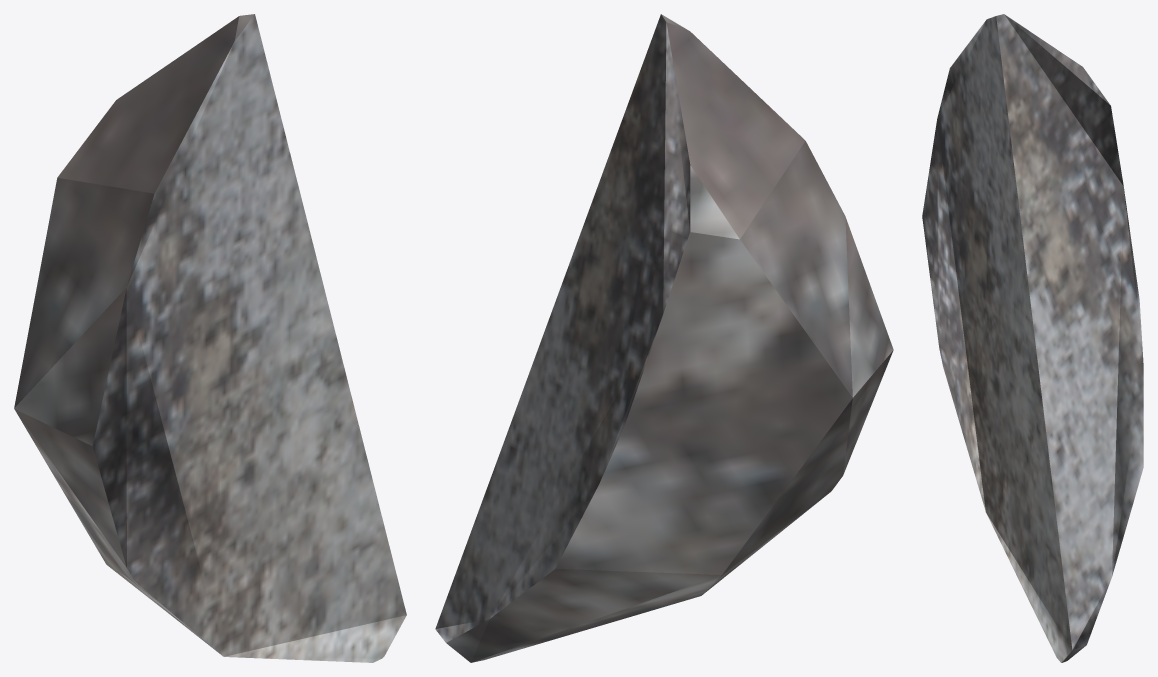
The model's file is Asteroid_Small_001_03_005.fbx.
3 views of the same model, side by side, from view 1: azimuth 30°, elevation 25°; view 2: azimuth 150°, elevation 25°; view 3: azimuth 270°, elevation 25° (orthographic). The views are drawn at different scales.
Parts seen in each view (by area): view 1: Asteroid_Small_001_03_005; view 2: Asteroid_Small_001_03_005; view 3: Asteroid_Small_001_03_005.
Part boxes in pixels (x1,y1,x2,y2): Asteroid_Small_001_03_005: (14,14,406,662); Asteroid_Small_001_03_005: (435,14,893,662); Asteroid_Small_001_03_005: (922,14,1143,662).
Size of the model in its own units: 4.14 by 6.67 by 2.31.
